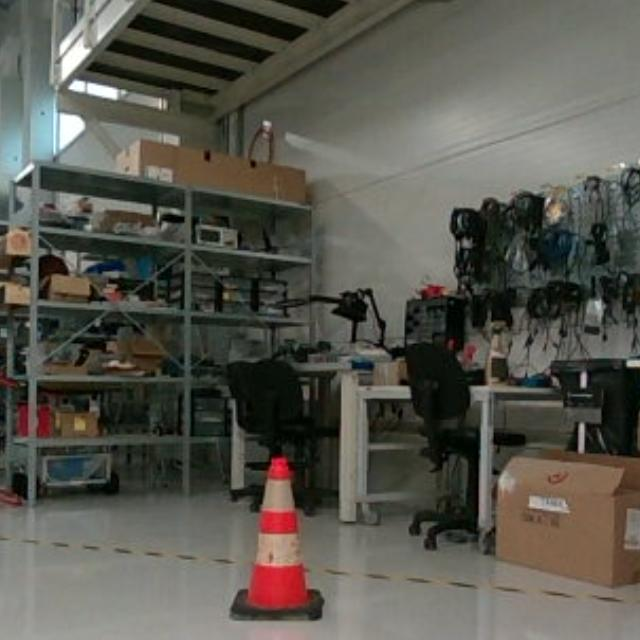Traffic-cone: (218, 455, 338, 624)
